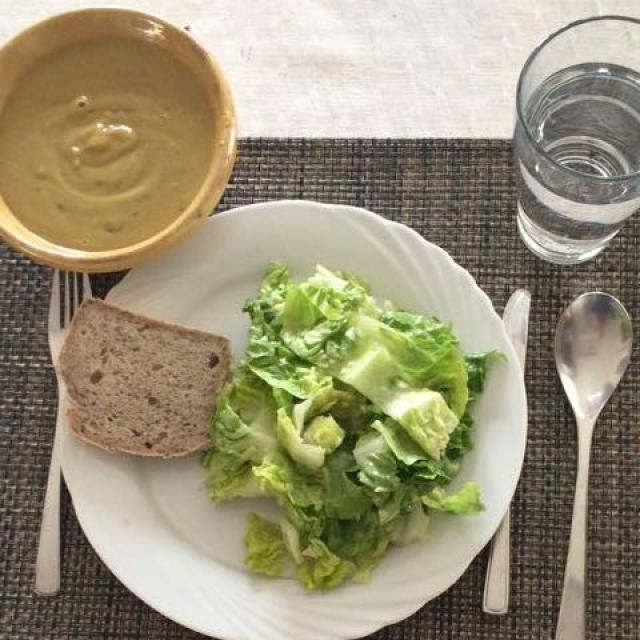bread-whole-wheat: (58, 302, 227, 455)
salad-leaf-salad-green: (207, 271, 482, 577)
soup-vegetable: (5, 45, 232, 258)
water: (509, 67, 637, 264)
